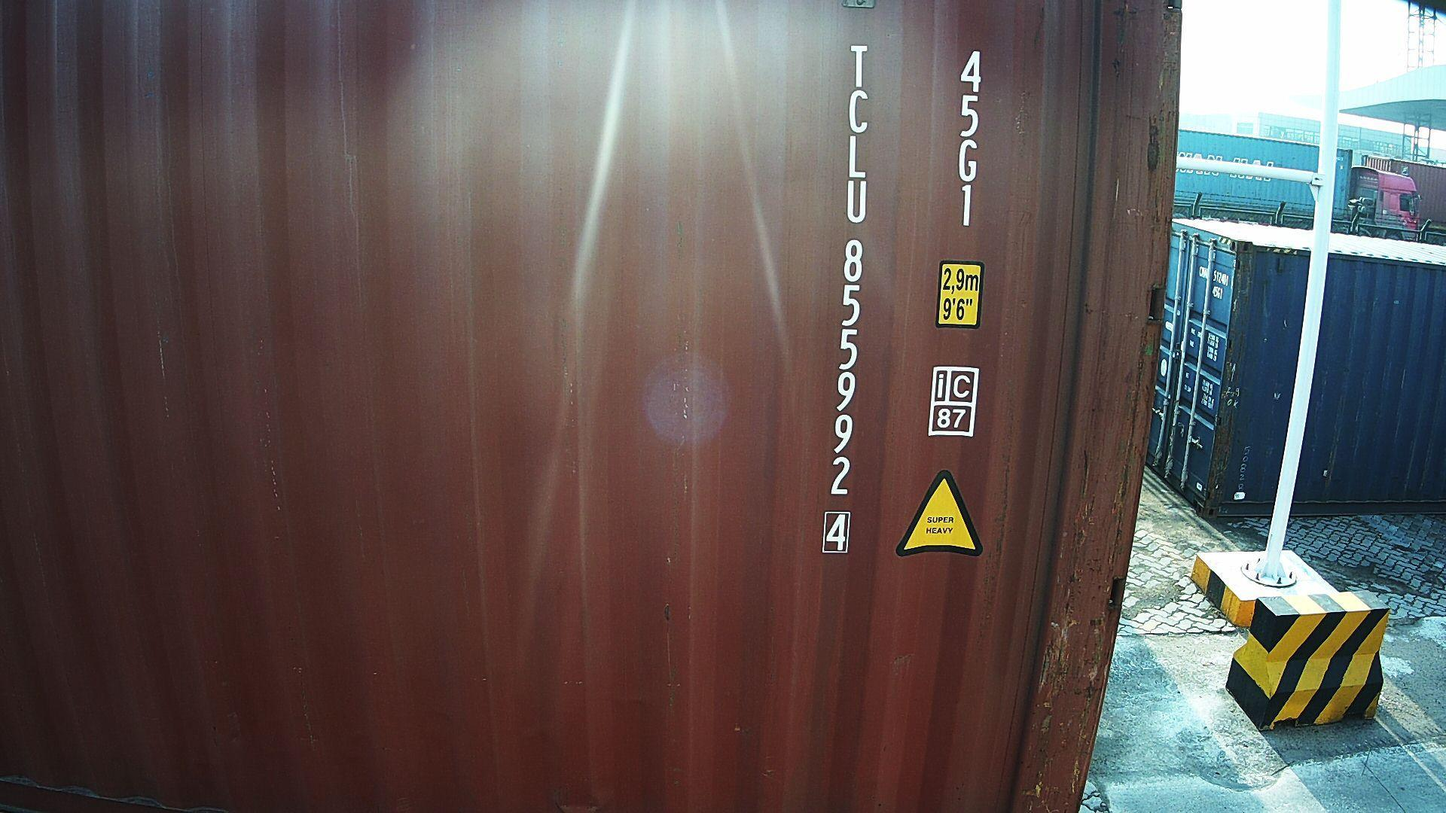container-numbers: (815, 41, 877, 561), (950, 45, 991, 233)
